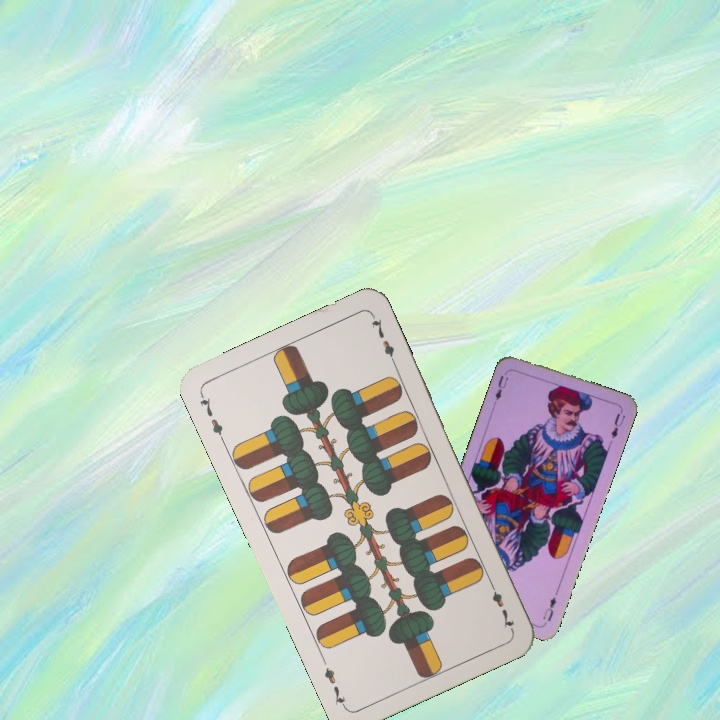E7: (195, 389, 228, 445), (485, 576, 517, 633)
EU: (491, 367, 511, 406), (538, 593, 559, 624)
